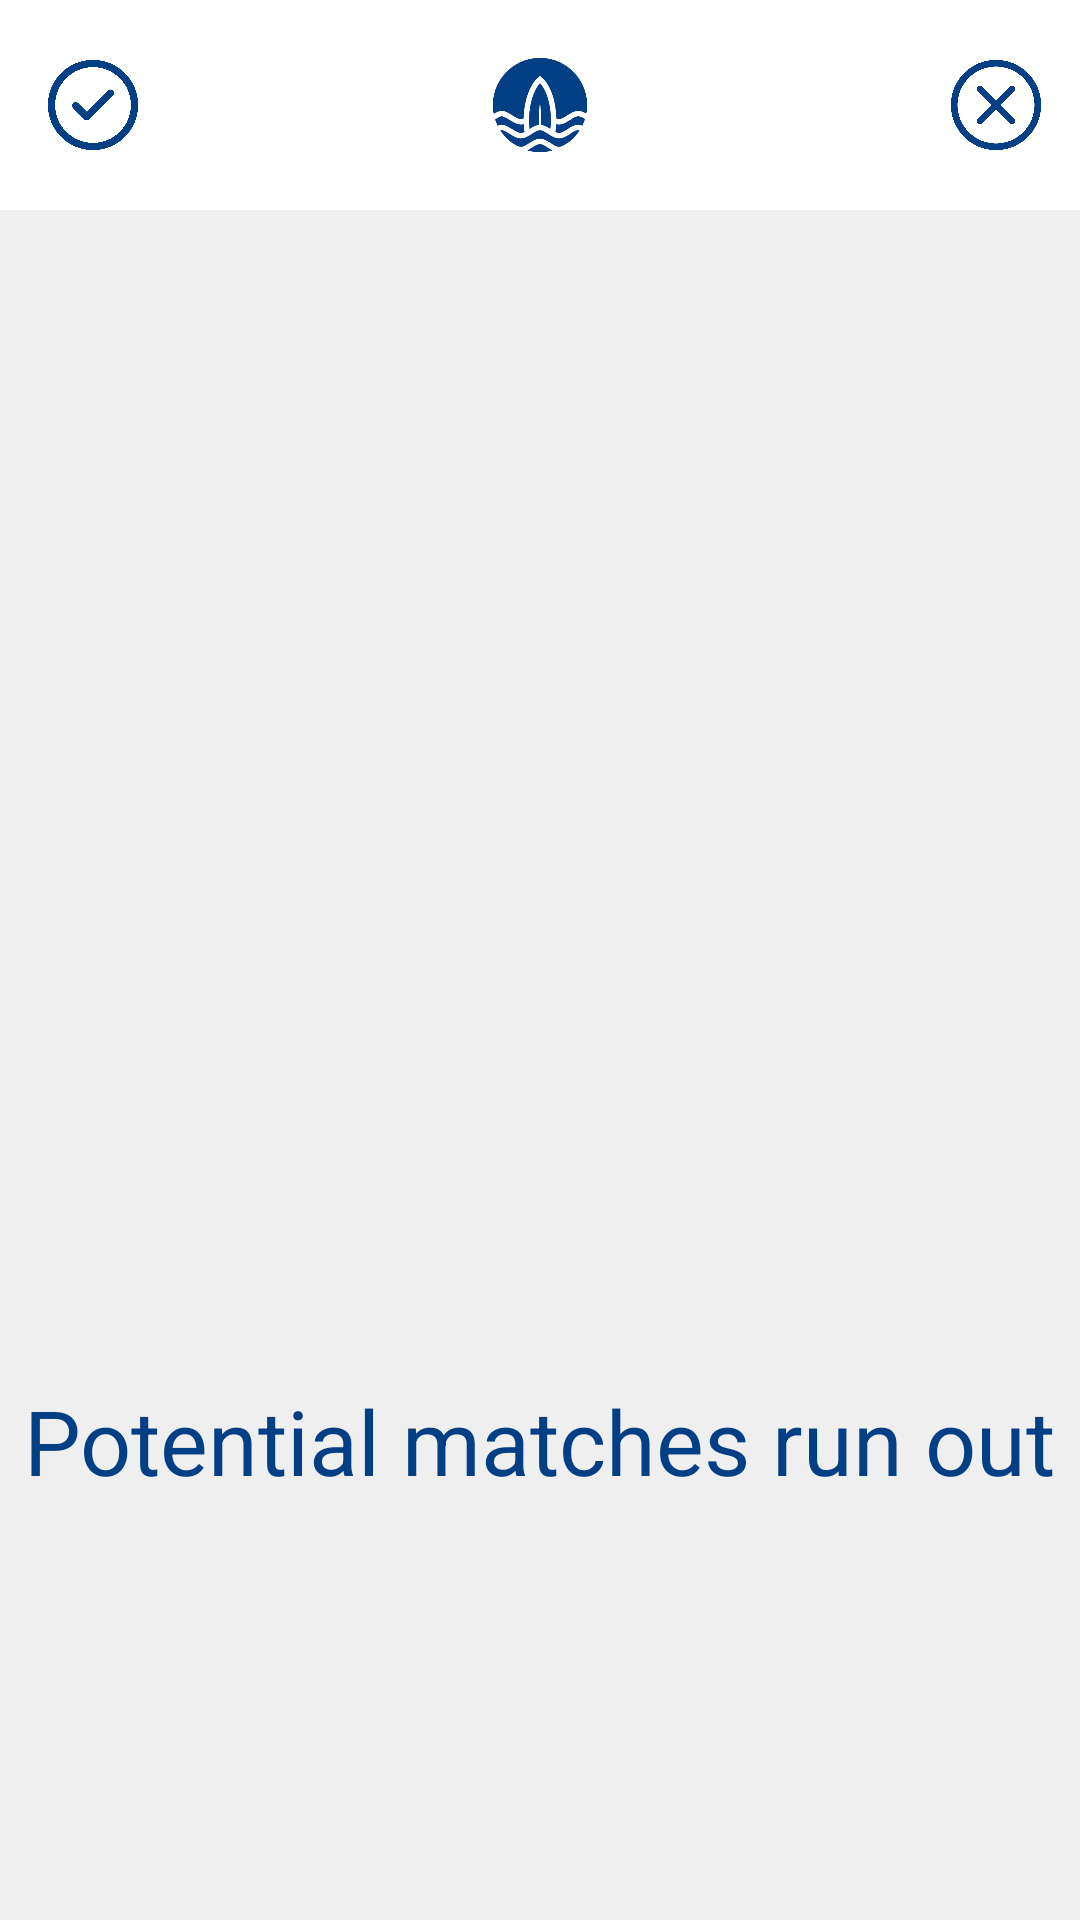

Icon click points for this 1080×1920 phone screenshot, format (x,y):
check mark: (93,105)
